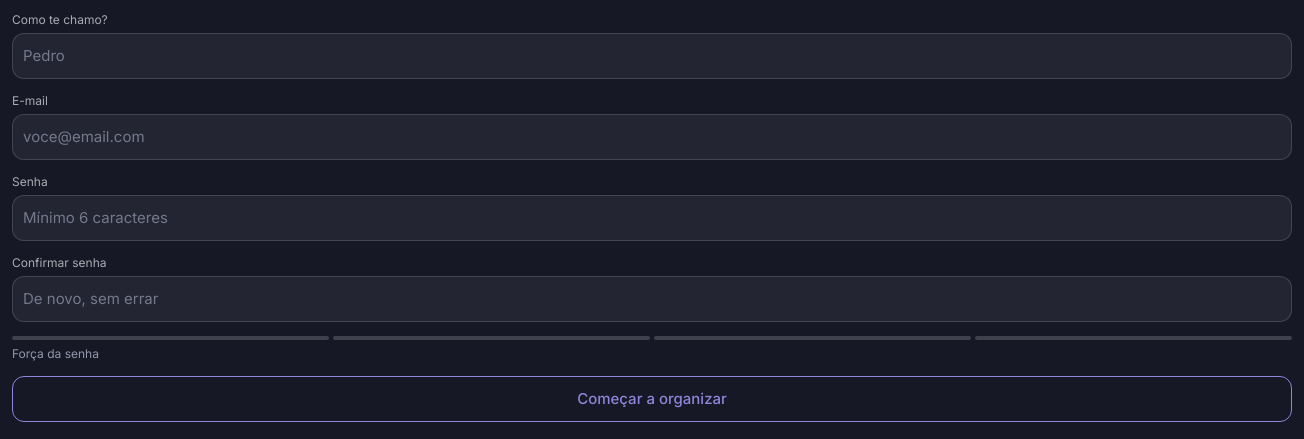
RegisterForm › atualiza o medidor de força enquanto digita
The width and height of the screenshot is (1304, 439).
expect the text "Força da senha" is shown: met, box [12, 346, 99, 361]
Type "abcd12345" into the password field labelled "Senha" at [652, 218], box [12, 195, 1292, 241]
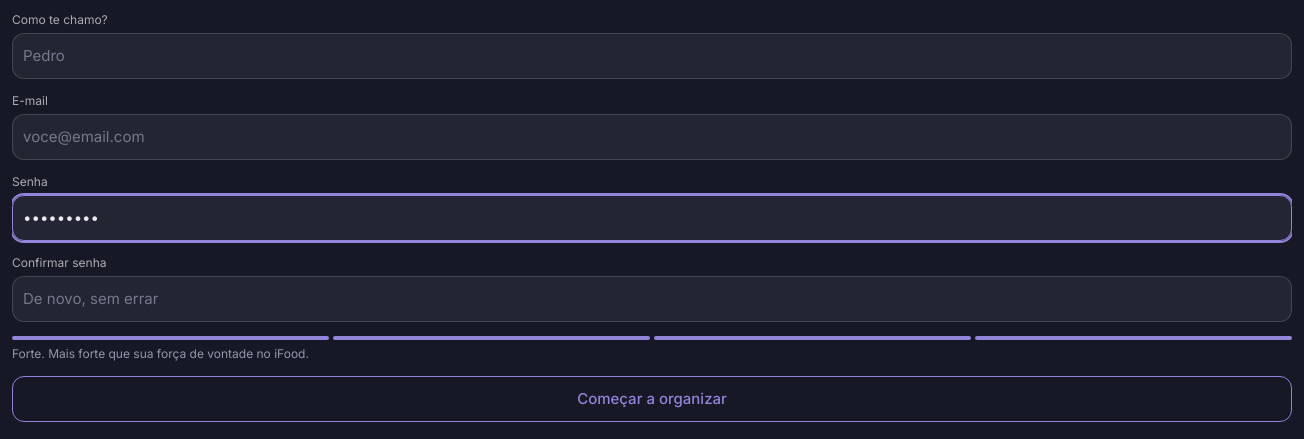
expect the text "Forte. Mais forte que sua força de vontade no iFood." is shown: met, box [12, 346, 309, 361]
